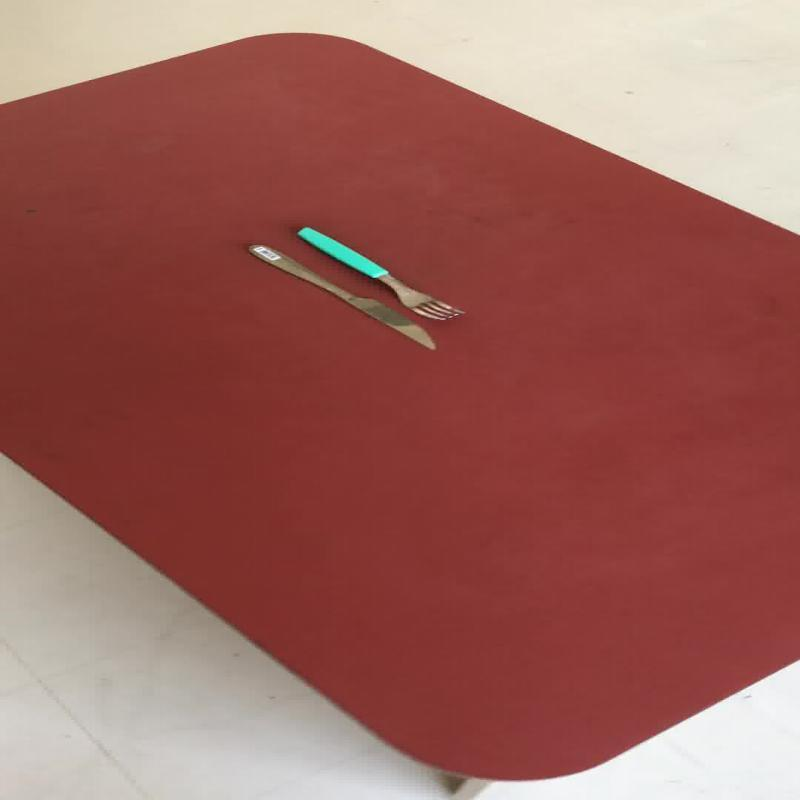fork: (294, 226, 465, 320)
knife: (244, 242, 436, 350)
